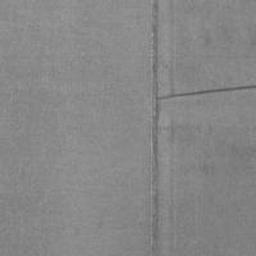Welding line: (148, 0, 160, 256)
